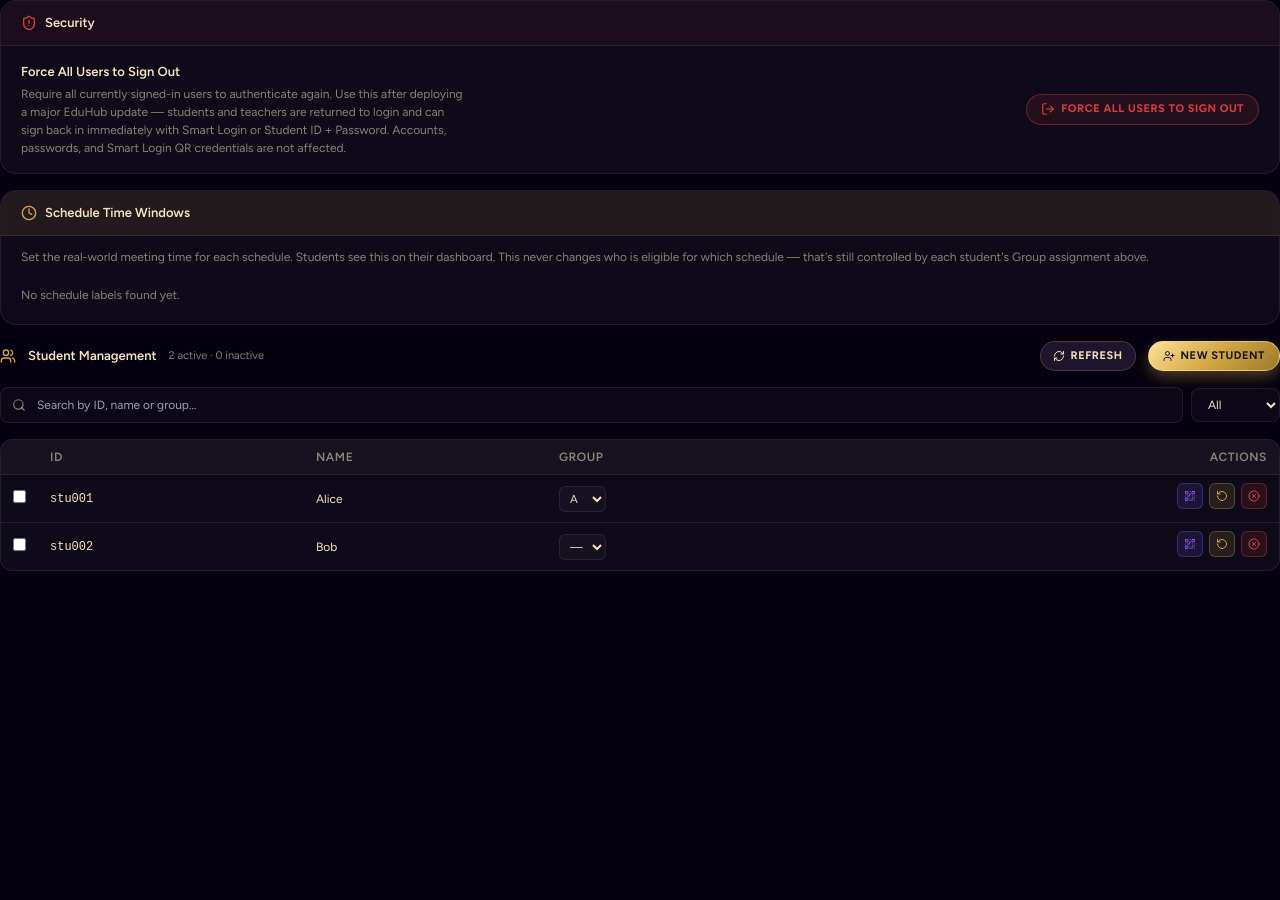
Scenario: StudentManager — Schedule A/B assignment (item 1) › bulk: selecting students and applying calls the bulk endpoint with the right ids/schedule
Click the checkbox with test id "student-select-stu001" at (20,496), box [13,490,26,502]
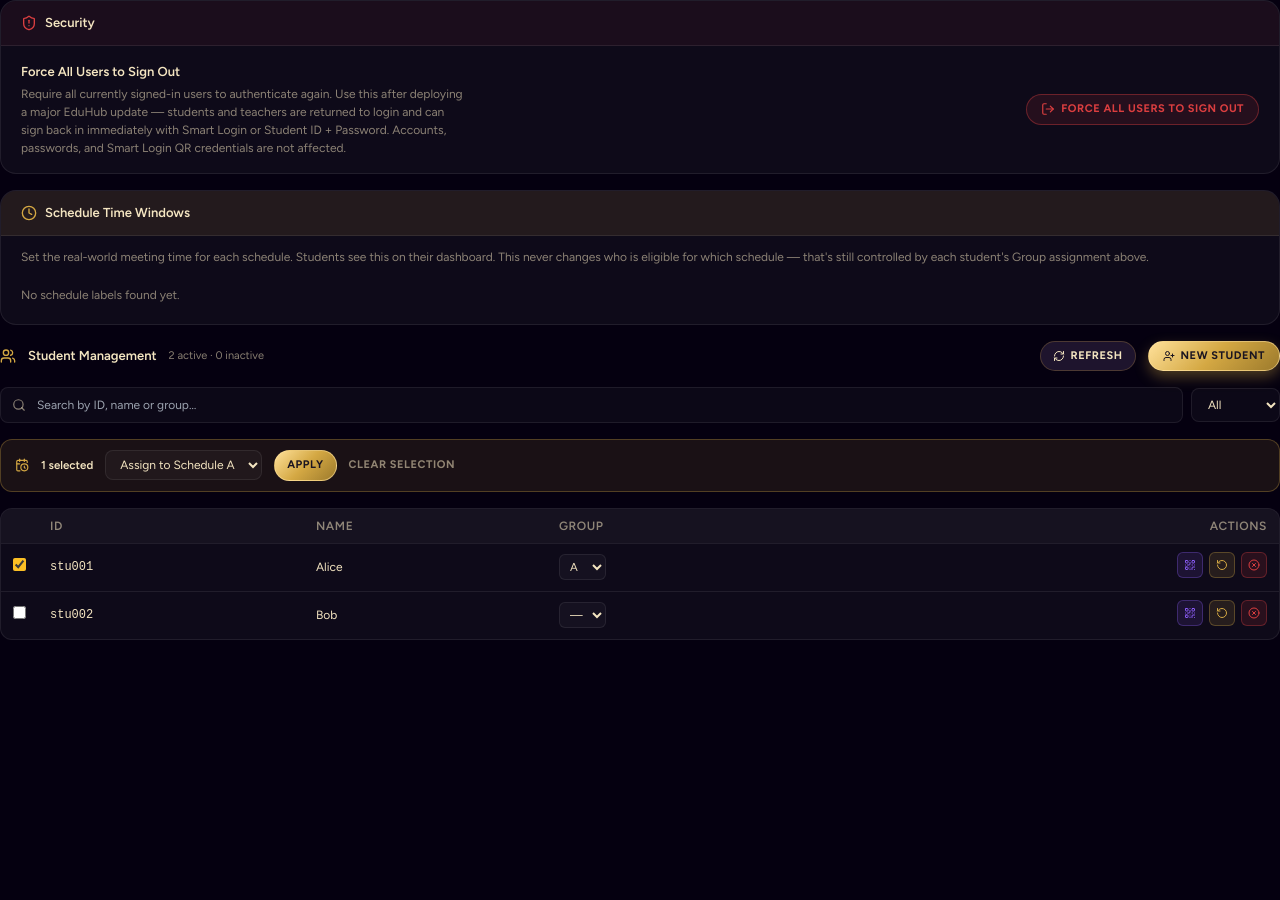
Click the checkbox with test id "student-select-stu002" at (20,612), box [13,606,26,619]
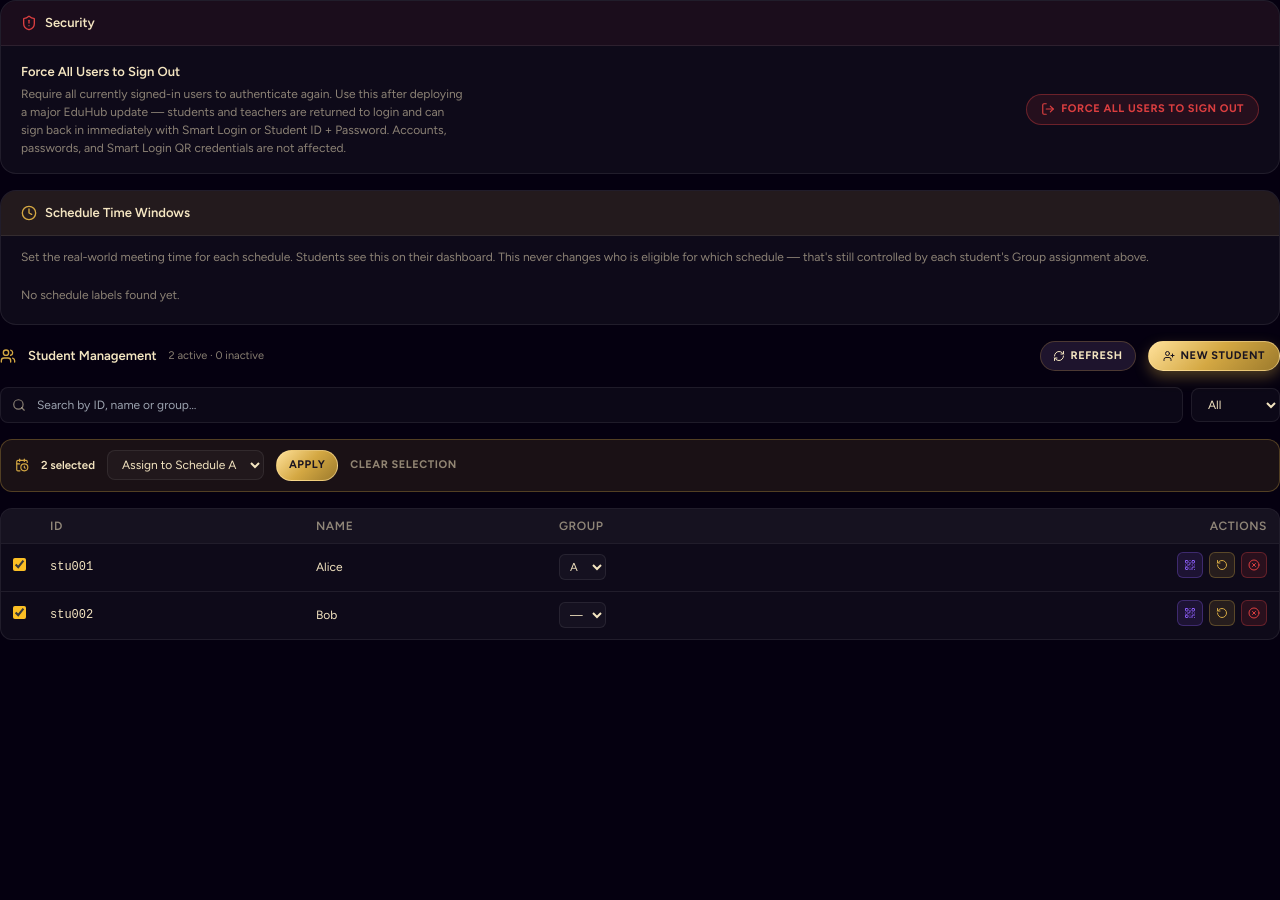
Now the element with test id "student-bulk-schedule-bar" shows "2 selected", box [0,439,1279,492]
Select "Assign to Schedule B" in the dropdown with test id "student-bulk-schedule-select" at (185,465), box [107,450,264,480]
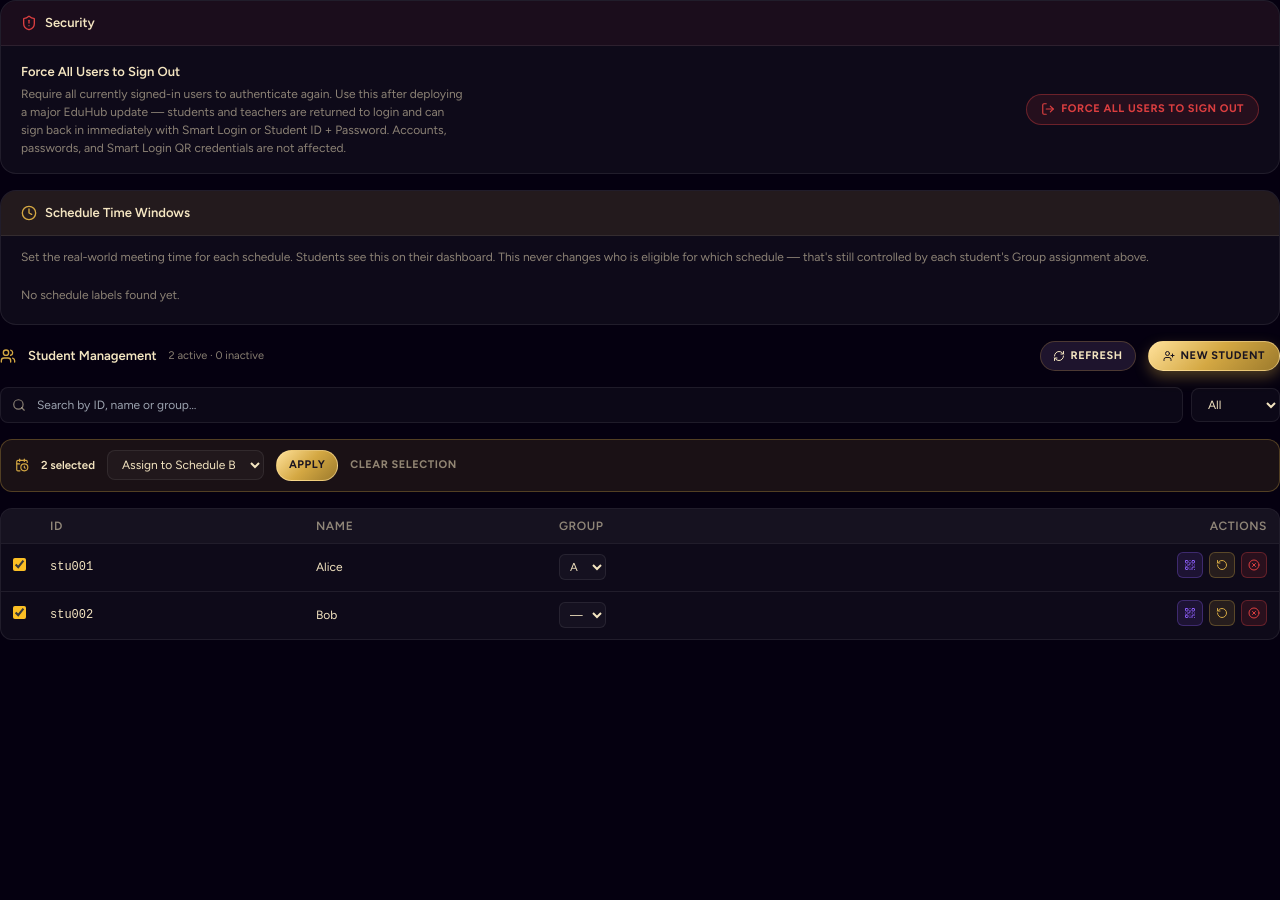
Click the button with test id "student-bulk-schedule-apply" at (307,465), box [276,450,338,480]
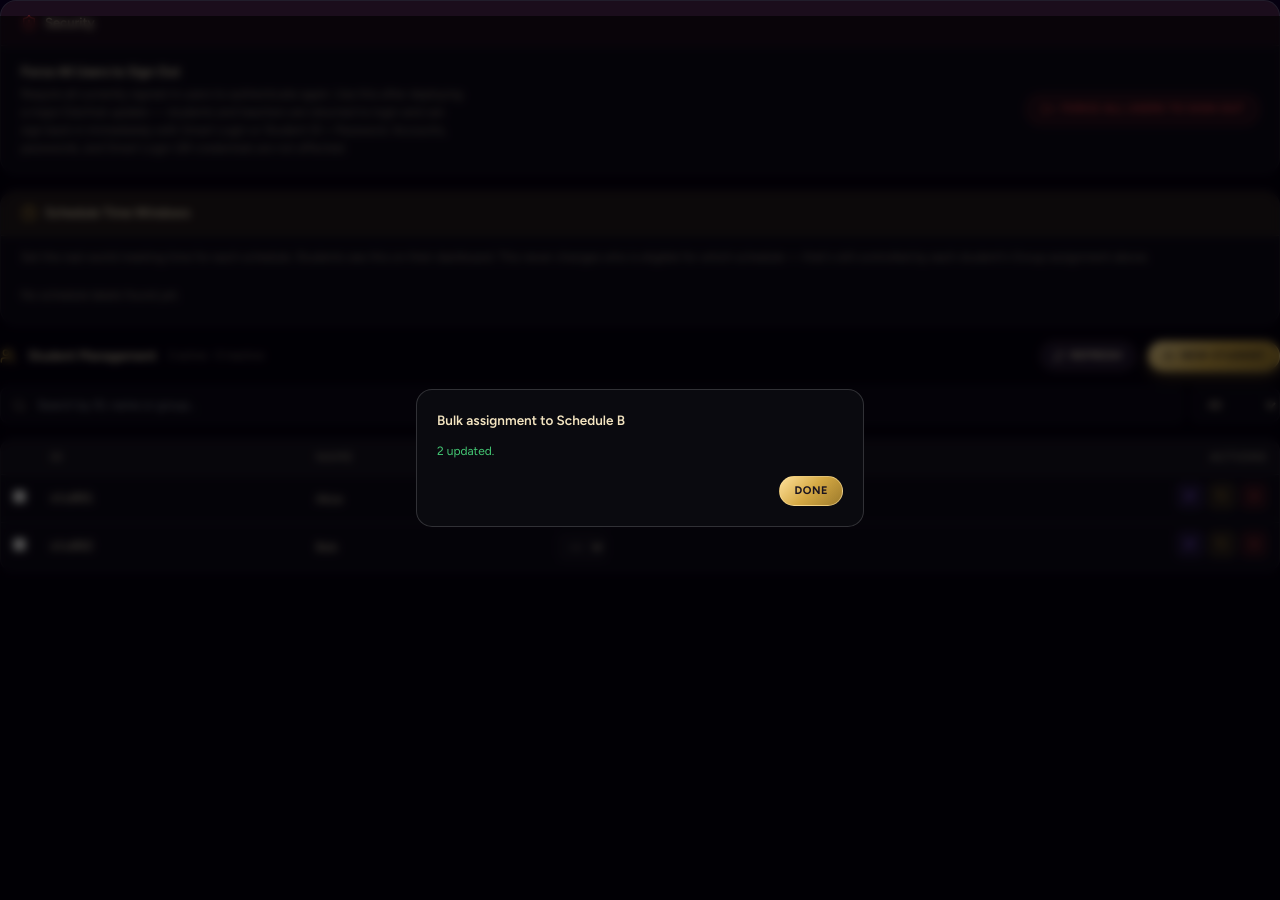
Now the element with test id "student-bulk-schedule-result" is shown
